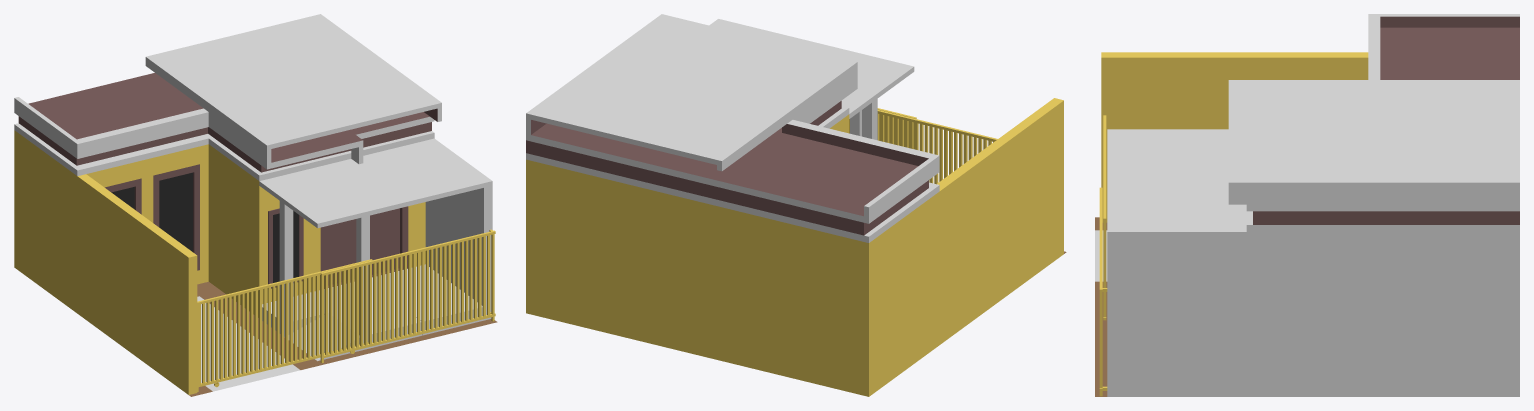
File: rumah2.fbx
The picture shows the model from 3 angles, left to right: view 1: azimuth 30°, elevation 25°; view 2: azimuth 150°, elevation 25°; view 3: azimuth 270°, elevation 25°; orthographic projection. The views are drawn at different scales.
Parts seen in each view (by area): view 1: rumah2; view 2: rumah2; view 3: rumah2.
Part boxes in pixels (box(x1,y1,x2,y2)): rumah2: box(14, 14, 497, 396); rumah2: box(526, 14, 1066, 396); rumah2: box(1095, 14, 1519, 396).
Bounding box in the file's own units: 700 × 390 × 700.
